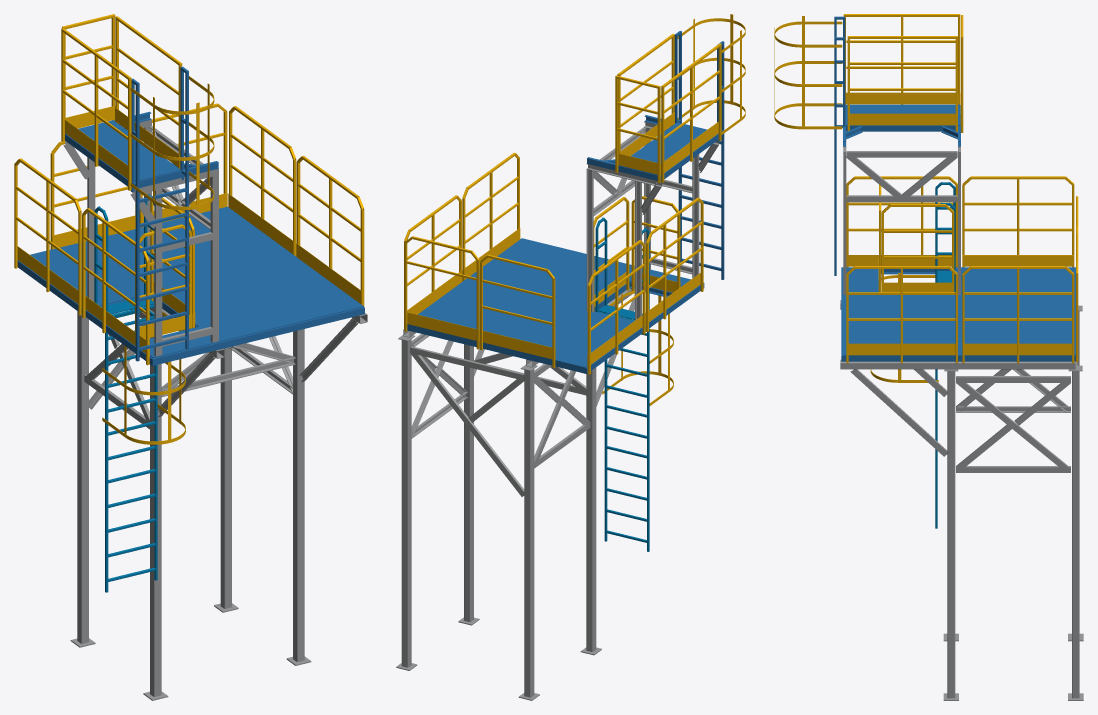
The model's file is Phase48 (2).fbx.
The picture shows the model from 3 angles, left to right: view 1: azimuth 30°, elevation 25°; view 2: azimuth 150°, elevation 25°; view 3: azimuth 270°, elevation 25°; orthographic projection. The views are drawn at different scales.
Parts seen in each view (by area): view 1: Профили_гнутые_замкнутые_сварные_прямоугольные_ГОСТ 30245-20 (×4), Стальной лист (ГОСТ 19903-74) Балки:Лист 3х165х730 ГОСТ 1990 (×9), Стремянка с 4610:Стремянка с 4610:269608, Семейство3:Семейство3:258565, Швеллер_с_параллельными_полками_ГОСТ_8240-97_Балка:[ 8P:2574 (×4), Стальной лист (ГОСТ 19903-74) Балки:Лист 10х1000:261727, Стальной лист (ГОСТ 19903-74) Балки:Лист 10х1000:260586, Стальной лист (ГОСТ 19903-74) Балки:Лист 10х1000:261714, Стальной лист (ГОСТ 19903-74) Балки:Лист 10х1530:261203, Ограждение стремянки ОСГ:Ограждение стремянки ОСГ-12с L=1280, Стальной лист (ГОСТ 19903-74) Балки:Лист 10х1000:261574, Стальной лист (ГОСТ 19903-74) Балки:Лист 10х1000:261130 (+9 smaller); view 2: Профили_гнутые_замкнутые_сварные_прямоугольные_ГОСТ 30245-20 (×4), Стальной лист (ГОСТ 19903-74) Балки:Лист 3х165х730 ГОСТ 1990 (×8), Стремянка с 4610:Стремянка с 4610:269608, Семейство3:Семейство3:258565, Стальной лист (ГОСТ 19903-74) Балки:Лист 10х1530:261203, Стальной лист (ГОСТ 19903-74) Балки:Лист 10х1000:261130, Швеллер_с_параллельными_полками_ГОСТ_8240-97_Балка:[ 8P:2607 (×2), Стальной лист (ГОСТ 19903-74) Балки:Лист 10х1000:261727, Стальной лист (ГОСТ 19903-74) Балки:Лист 10х1000:261714, Швеллер_с_параллельными_полками_ГОСТ_8240-97_Балка:[ 8P:2574 (×2), Стальной лист (ГОСТ 19903-74) Балки:Лист 10х1000:261141, Стальной лист (ГОСТ 19903-74) Балки:Лист 10х1000:260586 (+7 smaller); view 3: Стальной лист (ГОСТ 19903-74) Балки:Лист 3х165х730 ГОСТ 1990 (×7), Профили_гнутые_замкнутые_сварные_прямоугольные_ГОСТ 30245-20 (×2), Швеллер_с_параллельными_полками_ГОСТ_8240-97_Балка:[ 8P:2593 (×5), Стальной лист (ГОСТ 19903-74) Балки:Лист 10х1530:261203, Стальной лист (ГОСТ 19903-74) Балки:Лист 10х1000:261130, Стальной лист (ГОСТ 19903-74) Балки:Лист 10х1000:260586, Стальной лист (ГОСТ 19903-74) Балки:Лист 10х1000:261141, Профили_гнутые_замкнутые_сварные_квадратные_ГОСТ 30245-2003_, Ограждение стремянки ОСГ:Ограждение стремянки ОСГ-12с L=1280, Швеллер_с_параллельными_полками_ГОСТ_8240-97_Балка:[ 8P:2574 (×2), Стальной лист (ГОСТ 19903-74) Балки:Лист 10х1000:261714, Стальной лист (ГОСТ 19903-74) Балки:Лист 10х1000:261727 (+12 smaller).
Boxes of the visible parts, bbox=[...] form: Профили_гнутые_замкнутые_сварные_прямоугольные_ГОСТ 30245-20 (×4): bbox=[77, 311, 304, 696]; Стальной лист (ГОСТ 19903-74) Балки:Лист 3х165х730 ГОСТ 1990 (×9): bbox=[17, 106, 361, 356]; Стремянка с 4610:Стремянка с 4610:269608: bbox=[94, 194, 157, 592]; Семейство3:Семейство3:258565: bbox=[131, 66, 188, 361]; Швеллер_с_параллельными_полками_ГОСТ_8240-97_Балка:[ 8P:2574 (×4): bbox=[84, 157, 358, 429]; Стальной лист (ГОСТ 19903-74) Балки:Лист 10х1000:261727: bbox=[253, 273, 363, 322]; Стальной лист (ГОСТ 19903-74) Балки:Лист 10х1000:260586: bbox=[195, 289, 297, 342]; Стальной лист (ГОСТ 19903-74) Балки:Лист 10х1000:261714: bbox=[207, 240, 317, 288]; Стальной лист (ГОСТ 19903-74) Балки:Лист 10х1530:261203: bbox=[30, 242, 143, 305]; Ограждение стремянки ОСГ:Ограждение стремянки ОСГ-12с L=1280: bbox=[130, 76, 214, 210]; Стальной лист (ГОСТ 19903-74) Балки:Лист 10х1000:261574: bbox=[162, 206, 272, 255]; Стальной лист (ГОСТ 19903-74) Балки:Лист 10х1000:261130: bbox=[129, 256, 251, 303]; Профили_гнутые_замкнутые_сварные_прямоугольные_ГОСТ 30245-20 (×4): bbox=[401, 339, 596, 697]; Стальной лист (ГОСТ 19903-74) Балки:Лист 3х165х730 ГОСТ 1990 (×8): bbox=[407, 112, 718, 366]; Стремянка с 4610:Стремянка с 4610:269608: bbox=[595, 217, 649, 551]; Семейство3:Семейство3:258565: bbox=[674, 31, 724, 279]; Стальной лист (ГОСТ 19903-74) Балки:Лист 10х1530:261203: bbox=[529, 311, 633, 367]; Стальной лист (ГОСТ 19903-74) Балки:Лист 10х1000:261130: bbox=[501, 280, 595, 325]; Швеллер_с_параллельными_полками_ГОСТ_8240-97_Балка:[ 8P:2607 (×2): bbox=[410, 346, 524, 496]; Стальной лист (ГОСТ 19903-74) Балки:Лист 10х1000:261727: bbox=[483, 238, 577, 280]; Стальной лист (ГОСТ 19903-74) Балки:Лист 10х1000:261714: bbox=[444, 266, 538, 308]; Швеллер_с_параллельными_полками_ГОСТ_8240-97_Балка:[ 8P:2574 (×2): bbox=[635, 154, 699, 320]; Стальной лист (ГОСТ 19903-74) Балки:Лист 10х1000:261141: bbox=[461, 309, 567, 354]; Стальной лист (ГОСТ 19903-74) Балки:Лист 10х1000:260586: bbox=[540, 252, 642, 293]; Стальной лист (ГОСТ 19903-74) Балки:Лист 3х165х730 ГОСТ 1990 (×7): bbox=[845, 92, 1074, 355]; Профили_гнутые_замкнутые_сварные_прямоугольные_ГОСТ 30245-20 (×2): bbox=[947, 371, 1079, 698]; Швеллер_с_параллельными_полками_ГОСТ_8240-97_Балка:[ 8P:2593 (×5): bbox=[956, 376, 1070, 472]; Стальной лист (ГОСТ 19903-74) Балки:Лист 10х1530:261203: bbox=[957, 267, 1075, 294]; Стальной лист (ГОСТ 19903-74) Балки:Лист 10х1000:261130: bbox=[920, 295, 998, 327]; Стальной лист (ГОСТ 19903-74) Балки:Лист 10х1000:260586: bbox=[843, 295, 920, 327]; Стальной лист (ГОСТ 19903-74) Балки:Лист 10х1000:261141: bbox=[998, 295, 1075, 327]; Профили_гнутые_замкнутые_сварные_квадратные_ГОСТ 30245-2003_: bbox=[840, 359, 1075, 369]; Ограждение стремянки ОСГ:Ограждение стремянки ОСГ-12с L=1280: bbox=[774, 16, 842, 129]; Швеллер_с_параллельными_полками_ГОСТ_8240-97_Балка:[ 8P:2574 (×2): bbox=[850, 369, 1070, 456]; Стальной лист (ГОСТ 19903-74) Балки:Лист 10х1000:261714: bbox=[920, 327, 998, 355]; Стальной лист (ГОСТ 19903-74) Балки:Лист 10х1000:261727: bbox=[843, 327, 920, 355].
Bounding box in the file's own units: 3056 × 3976 × 8327.
